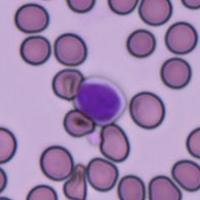L: (74, 76, 128, 126)
